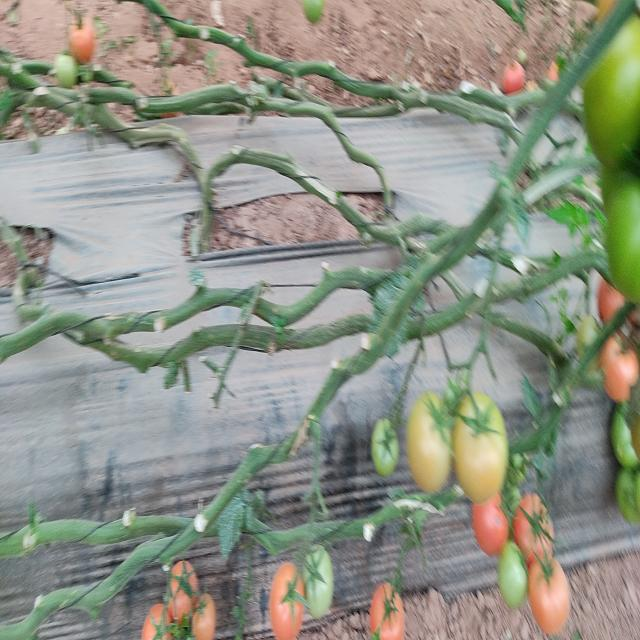Ripe Tomato: (271, 563, 311, 640), (530, 564, 574, 630), (516, 487, 554, 560), (366, 586, 404, 640), (169, 555, 198, 617)
Unripe Tomato: (455, 388, 509, 502), (407, 398, 454, 487), (304, 537, 334, 608), (372, 414, 399, 475)
